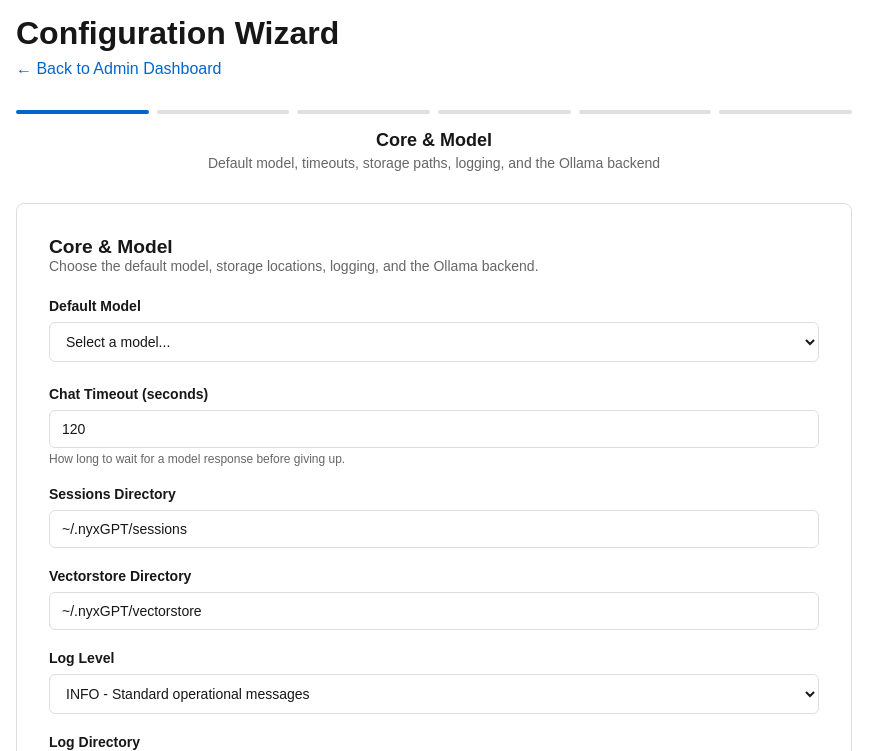
it: AdminPage Component › enables Next once a model is selected
Select "mistral:7b" in the dropdown labelled "Default Model": (434, 342) x1=49 y1=322 x2=819 y2=362
(page scrolled)
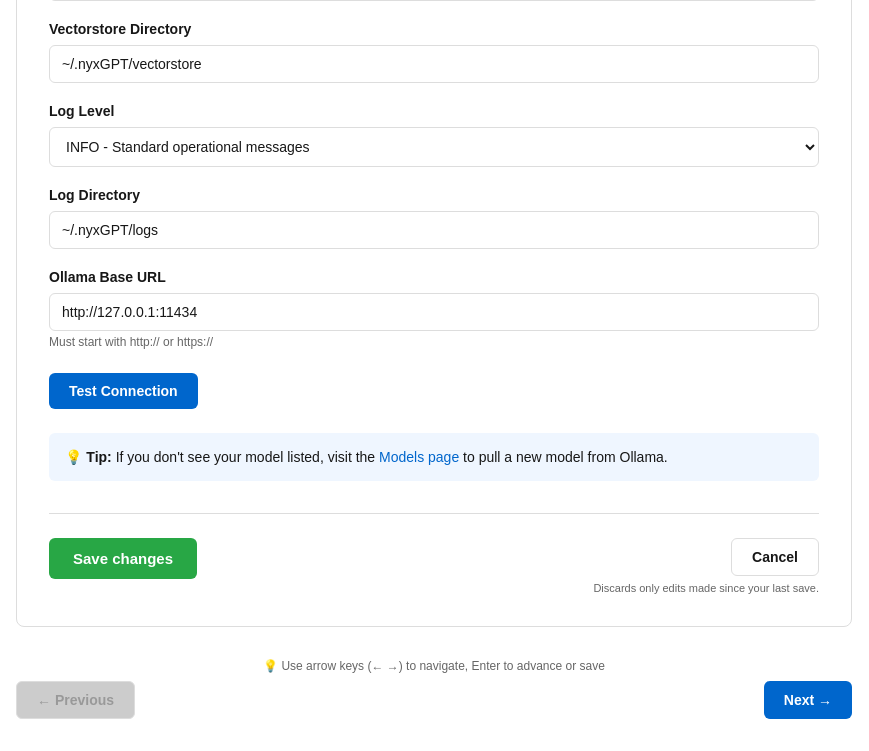
Now the button "Next →" is enabled, box x1=764 y1=681 x2=852 y2=719
